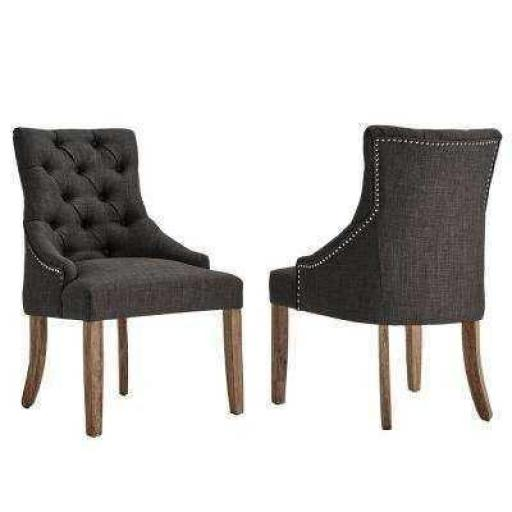chair: (8, 118, 250, 444), (265, 114, 507, 434)
